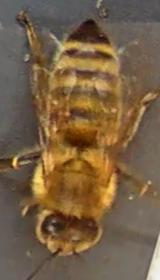varroa_mite: (40, 100, 80, 132)
